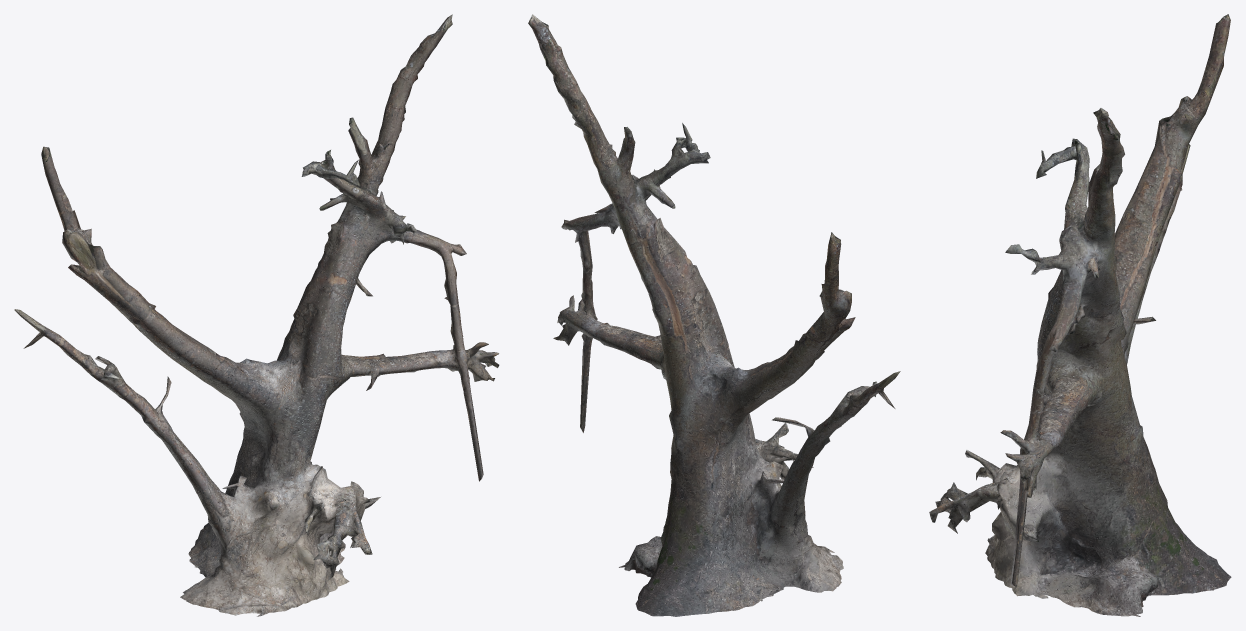
File: SM_TreeStump_06_04.fbx
3 renders of one model, left to right at view 1: azimuth 30°, elevation 25°; view 2: azimuth 150°, elevation 25°; view 3: azimuth 270°, elevation 25°, orthographic. The views are drawn at different scales.
Parts seen in each view (by area): view 1: sm_TreeStump_06_04_LOD0; view 2: sm_TreeStump_06_04_LOD0; view 3: sm_TreeStump_06_04_LOD0.
Part boxes in pixels (x1,y1,x2,y2): sm_TreeStump_06_04_LOD0: (14,14,499,616); sm_TreeStump_06_04_LOD0: (528,14,900,616); sm_TreeStump_06_04_LOD0: (929,14,1231,616).
Bounding box in the file's own units: 69.68 × 122 × 144.
